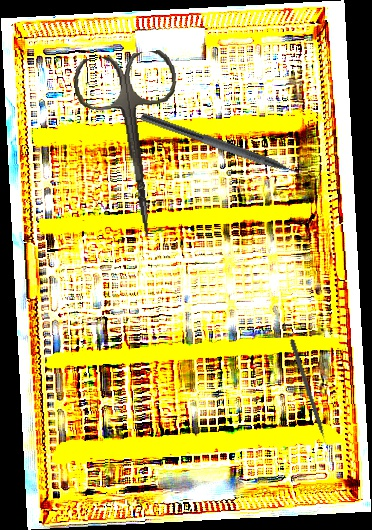Chopper: (135, 111, 316, 192)
Iris Scissors: (71, 48, 196, 243)
Pusher: (288, 338, 331, 454)
